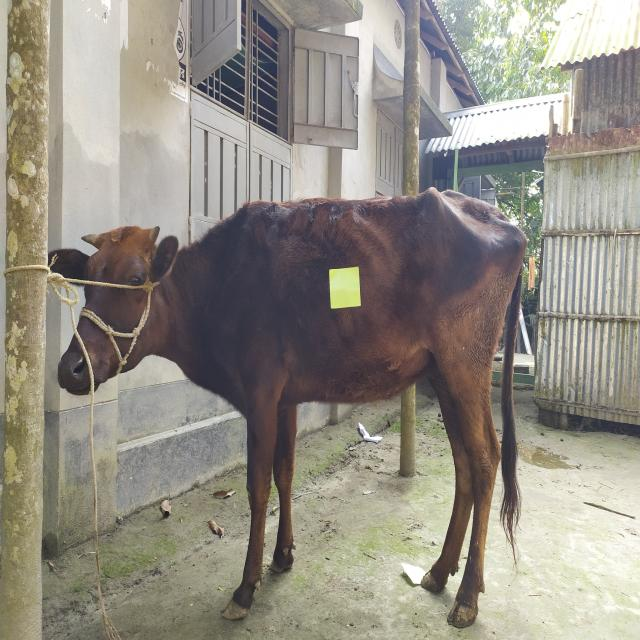badan_sapi: (244, 194, 514, 423)
sapi: (51, 186, 546, 638)
